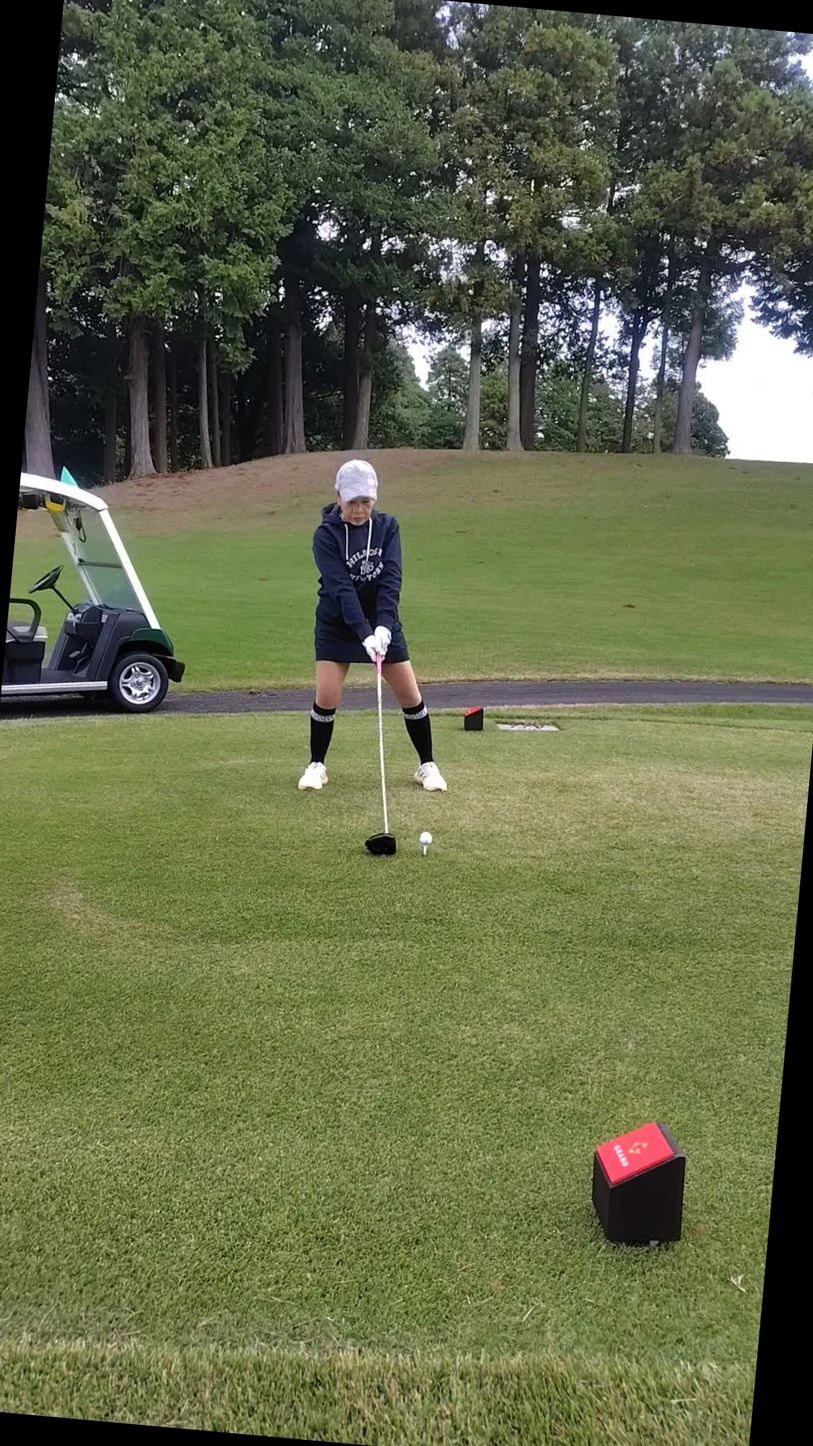clubhead: (255, 797, 487, 925)
